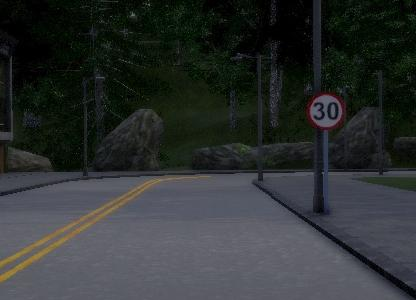Speed_30: (304, 91, 346, 134)
